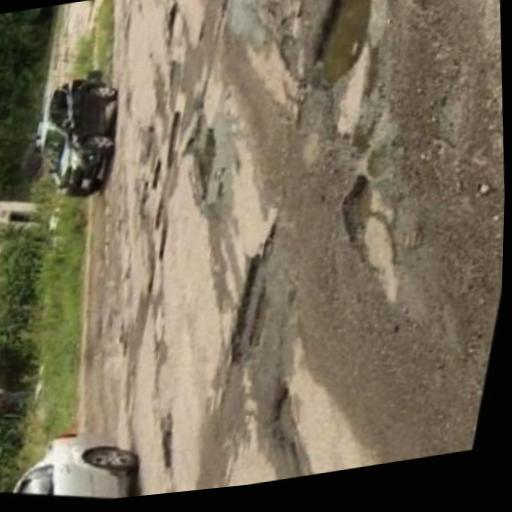pothole: (232, 212, 281, 376), (311, 0, 372, 91), (273, 380, 316, 476), (342, 174, 374, 254)
